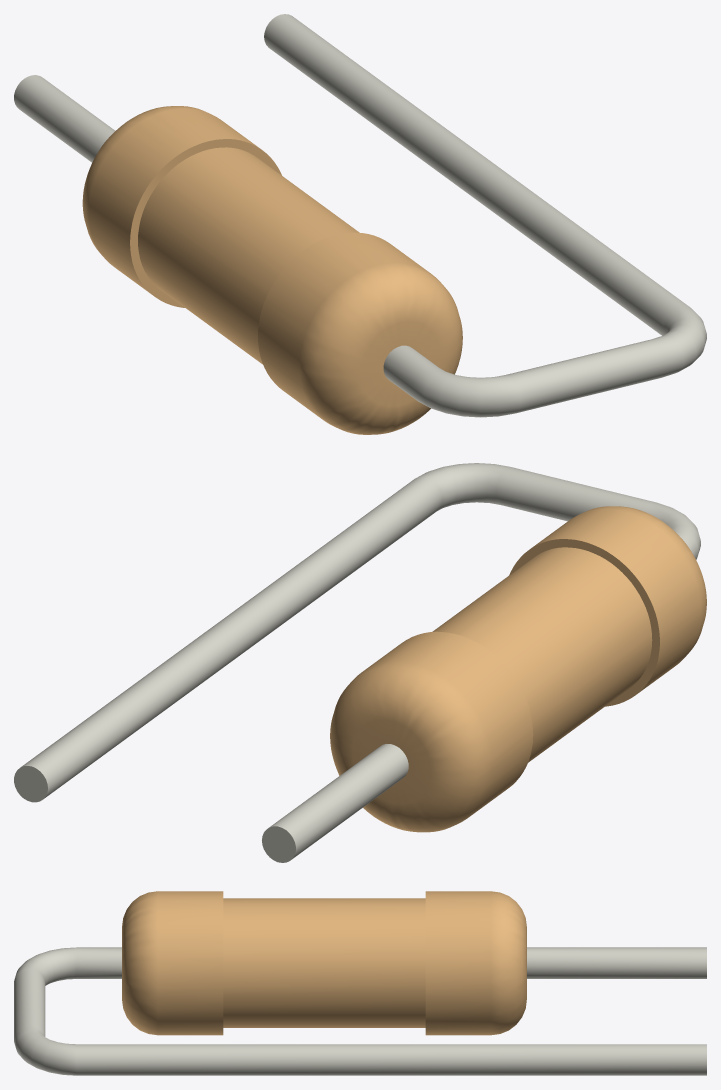
File: r-axial-din0309-l9.0-d3.2-p5.08-v.glb
3 views of the same model, one above another, from view 1: azimuth 30°, elevation 25°; view 2: azimuth 150°, elevation 25°; view 3: azimuth 270°, elevation 25° (orthographic). The views are drawn at different scales.
Visible parts, largest first — view 1: RES-THT-01, PIN-01; view 2: RES-THT-01, PIN-01; view 3: RES-THT-01, PIN-01.
Boxes of the visible parts, x1,y1,x2,y2 form: RES-THT-01: (82,106,462,434); PIN-01: (14,14,706,417); RES-THT-01: (330,506,706,832); PIN-01: (14,463,700,862); RES-THT-01: (122,891,526,1035); PIN-01: (14,947,706,1075).
Bounding box in the file's own units: 7.03 × 3.2 × 15.4.
